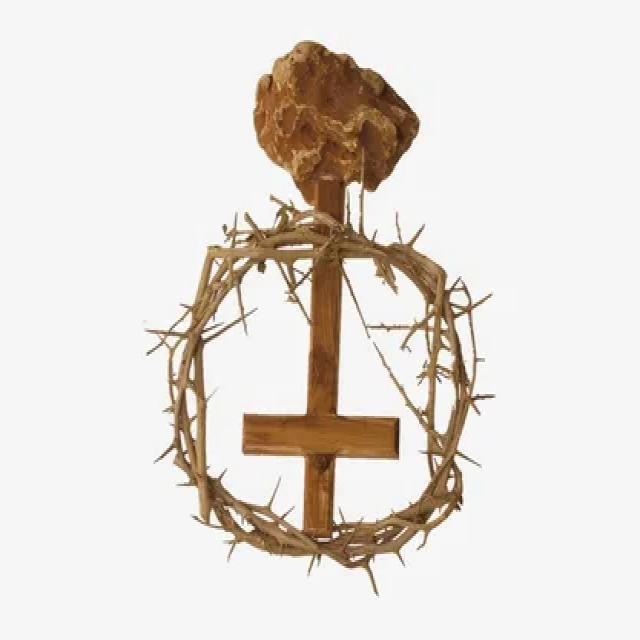crown: (151, 203, 489, 590)
